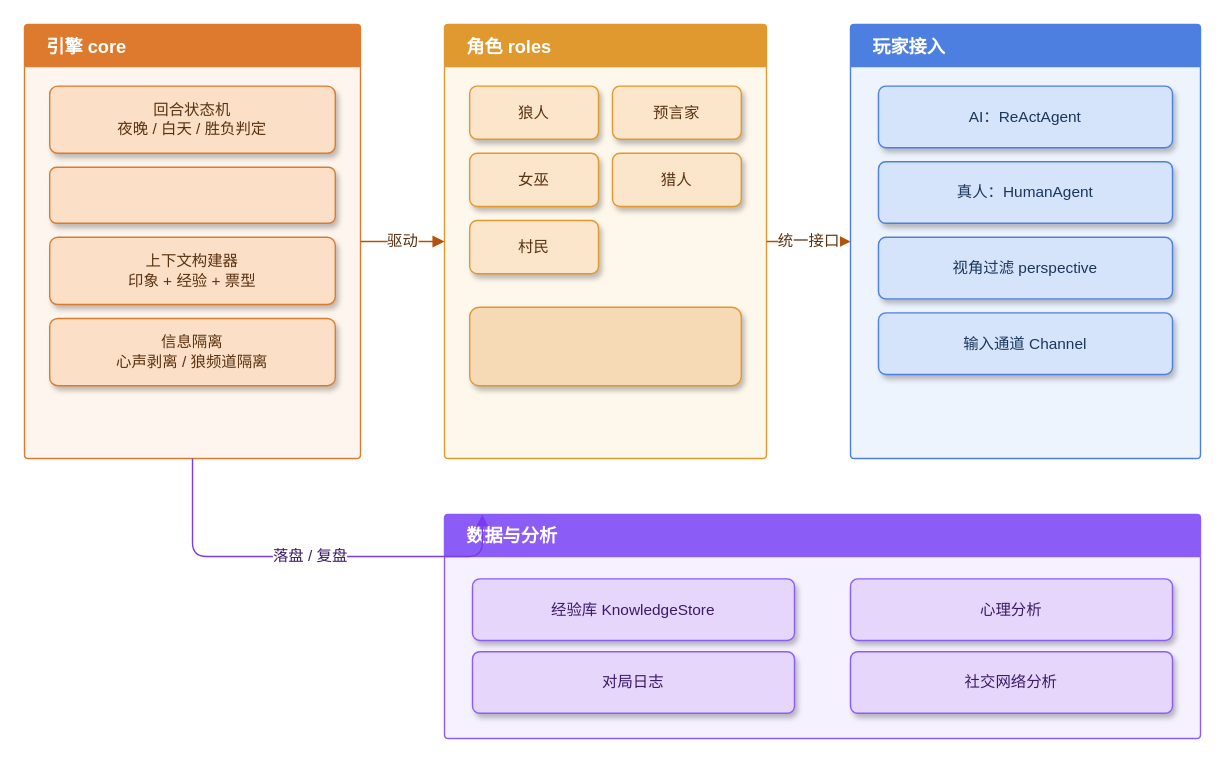
This 1225x763 diagram has some shape labels left out. The shapes that lost their labels are listed below. From the top down, each one's centre as x and y in pixels, then its label:
At pixel 193 196: "投票与 PK 仲裁".
At pixel 606 348: "三段式决策 心声 · 表现 · 发言".
